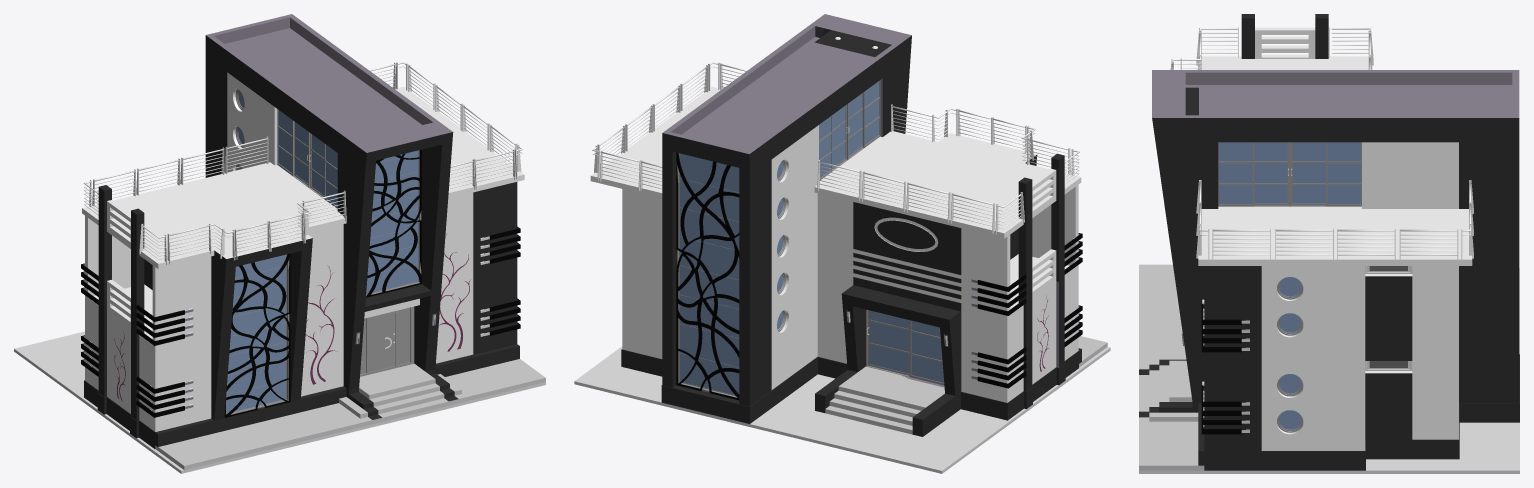
The model's file is 3d_modern_house.glb.
3 renders of one model, left to right at view 1: azimuth 30°, elevation 25°; view 2: azimuth 150°, elevation 25°; view 3: azimuth 270°, elevation 25°, orthographic. The views are drawn at different scales.
Visible parts, largest first — view 1: Modern House, G-__557076, Group 5.005_1 (×3), G-__556977, G-__556986, Group 5.005, G-__557085, G-__557031, MW-10109.005_0 (×2), G-__558219, G-__558246; view 2: Modern House, G-__557076, G-__556977, Group 5.005_1 (×2), G-__557022, MW-10109.005_0 (×3), G-__558327, G-__558246, G-__558219, G-__558318, Group 5.005_0; view 3: Modern House, G-__557076, G-__556977, MW-10109.005_0 (×2), G-__558300, G-__558273, G-__557796, G-__557760, G-__557724, G-__557832, G-__558291, G-__558264 (+2 smaller).
Part boxes in pixels (x1,y1,x2,y2): Modern House: (82, 14, 524, 431); G-__557076: (84, 344, 545, 470); Group 5.005_1 (×3): (226, 150, 418, 413); G-__556977: (14, 331, 545, 473); G-__556986: (224, 253, 290, 417); Group 5.005: (366, 208, 421, 295); G-__557085: (360, 306, 414, 376); G-__557031: (366, 149, 421, 297); MW-10109.005_0 (×2): (278, 110, 337, 206); G-__558219: (294, 122, 308, 183); G-__558246: (311, 134, 324, 195); Modern House: (590, 14, 1081, 406); G-__557076: (621, 336, 1107, 436); G-__556977: (574, 346, 1110, 473); Group 5.005_1 (×2): (680, 153, 739, 394); G-__557022: (676, 152, 739, 400); MW-10109.005_0 (×3): (819, 81, 944, 382); G-__558327: (869, 310, 909, 373); G-__558246: (848, 93, 862, 155); G-__558219: (832, 105, 845, 167); G-__558318: (866, 309, 944, 385); Group 5.005_0: (678, 266, 739, 397); Modern House: (1152, 14, 1519, 451); G-__557076: (1139, 264, 1519, 470); G-__556977: (1139, 268, 1519, 473); MW-10109.005_0 (×2): (1219, 142, 1360, 204); G-__558300: (1254, 142, 1287, 203); G-__558273: (1292, 142, 1325, 203); G-__557796: (1337, 229, 1394, 255); G-__557760: (1213, 229, 1270, 255); G-__557724: (1276, 229, 1332, 255); G-__557832: (1400, 229, 1457, 255); G-__558291: (1218, 142, 1289, 206); G-__558264: (1290, 142, 1361, 206).
Size of the model in its own units: 14.57 by 10.15 by 11.39.
Materials: 18 (1 with a texture image).
